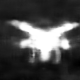plane: (8, 18, 80, 65)
